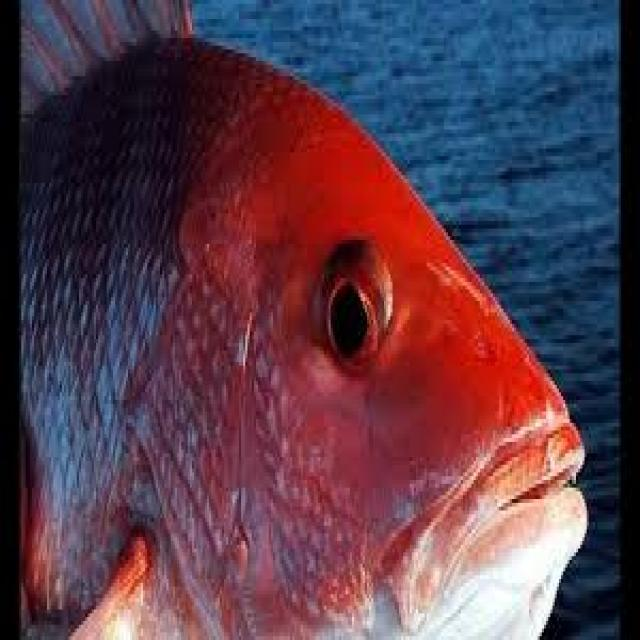northern-red-snapper: (20, 0, 592, 640)
